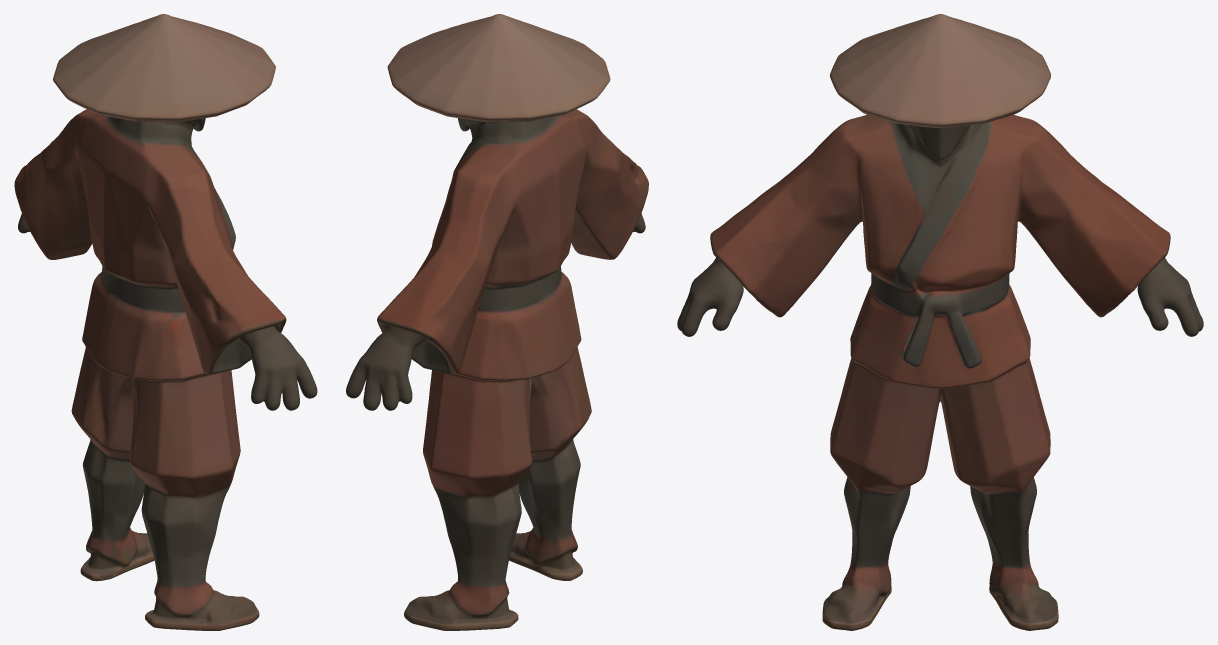
3 renders of one model, left to right at view 1: azimuth 30°, elevation 25°; view 2: azimuth 150°, elevation 25°; view 3: azimuth 270°, elevation 25°, orthographic. The views are drawn at different scales.
Visible parts, largest first — view 1: node_8df92385_0f9c_4932_98a7_3cf4415f2bc9_mesh0; view 2: node_8df92385_0f9c_4932_98a7_3cf4415f2bc9_mesh0; view 3: node_8df92385_0f9c_4932_98a7_3cf4415f2bc9_mesh0.
Part boxes in pixels (x1=…): node_8df92385_0f9c_4932_98a7_3cf4415f2bc9_mesh0: x1=14, y1=14, x2=317, y2=630; node_8df92385_0f9c_4932_98a7_3cf4415f2bc9_mesh0: x1=346, y1=14, x2=648, y2=630; node_8df92385_0f9c_4932_98a7_3cf4415f2bc9_mesh0: x1=677, y1=14, x2=1203, y2=630.
Size of the model in its own units: 33.87 by 94.87 by 76.23.
Materials: 1 (1 with a texture image).
